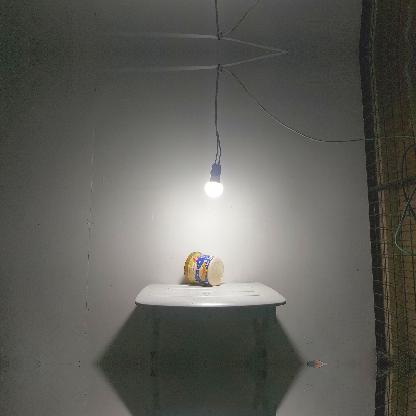Lady-s-Choice: (184, 252, 224, 286)
